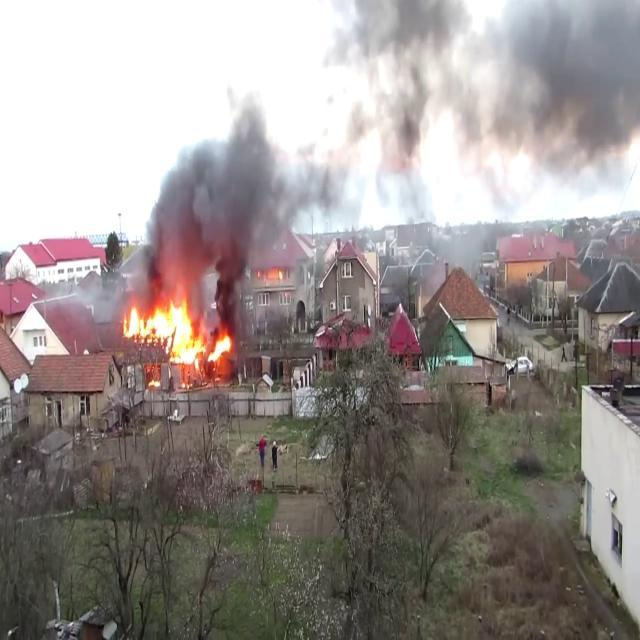Fire: (121, 290, 232, 367)
Smoke: (327, 0, 640, 224), (127, 48, 307, 292)
